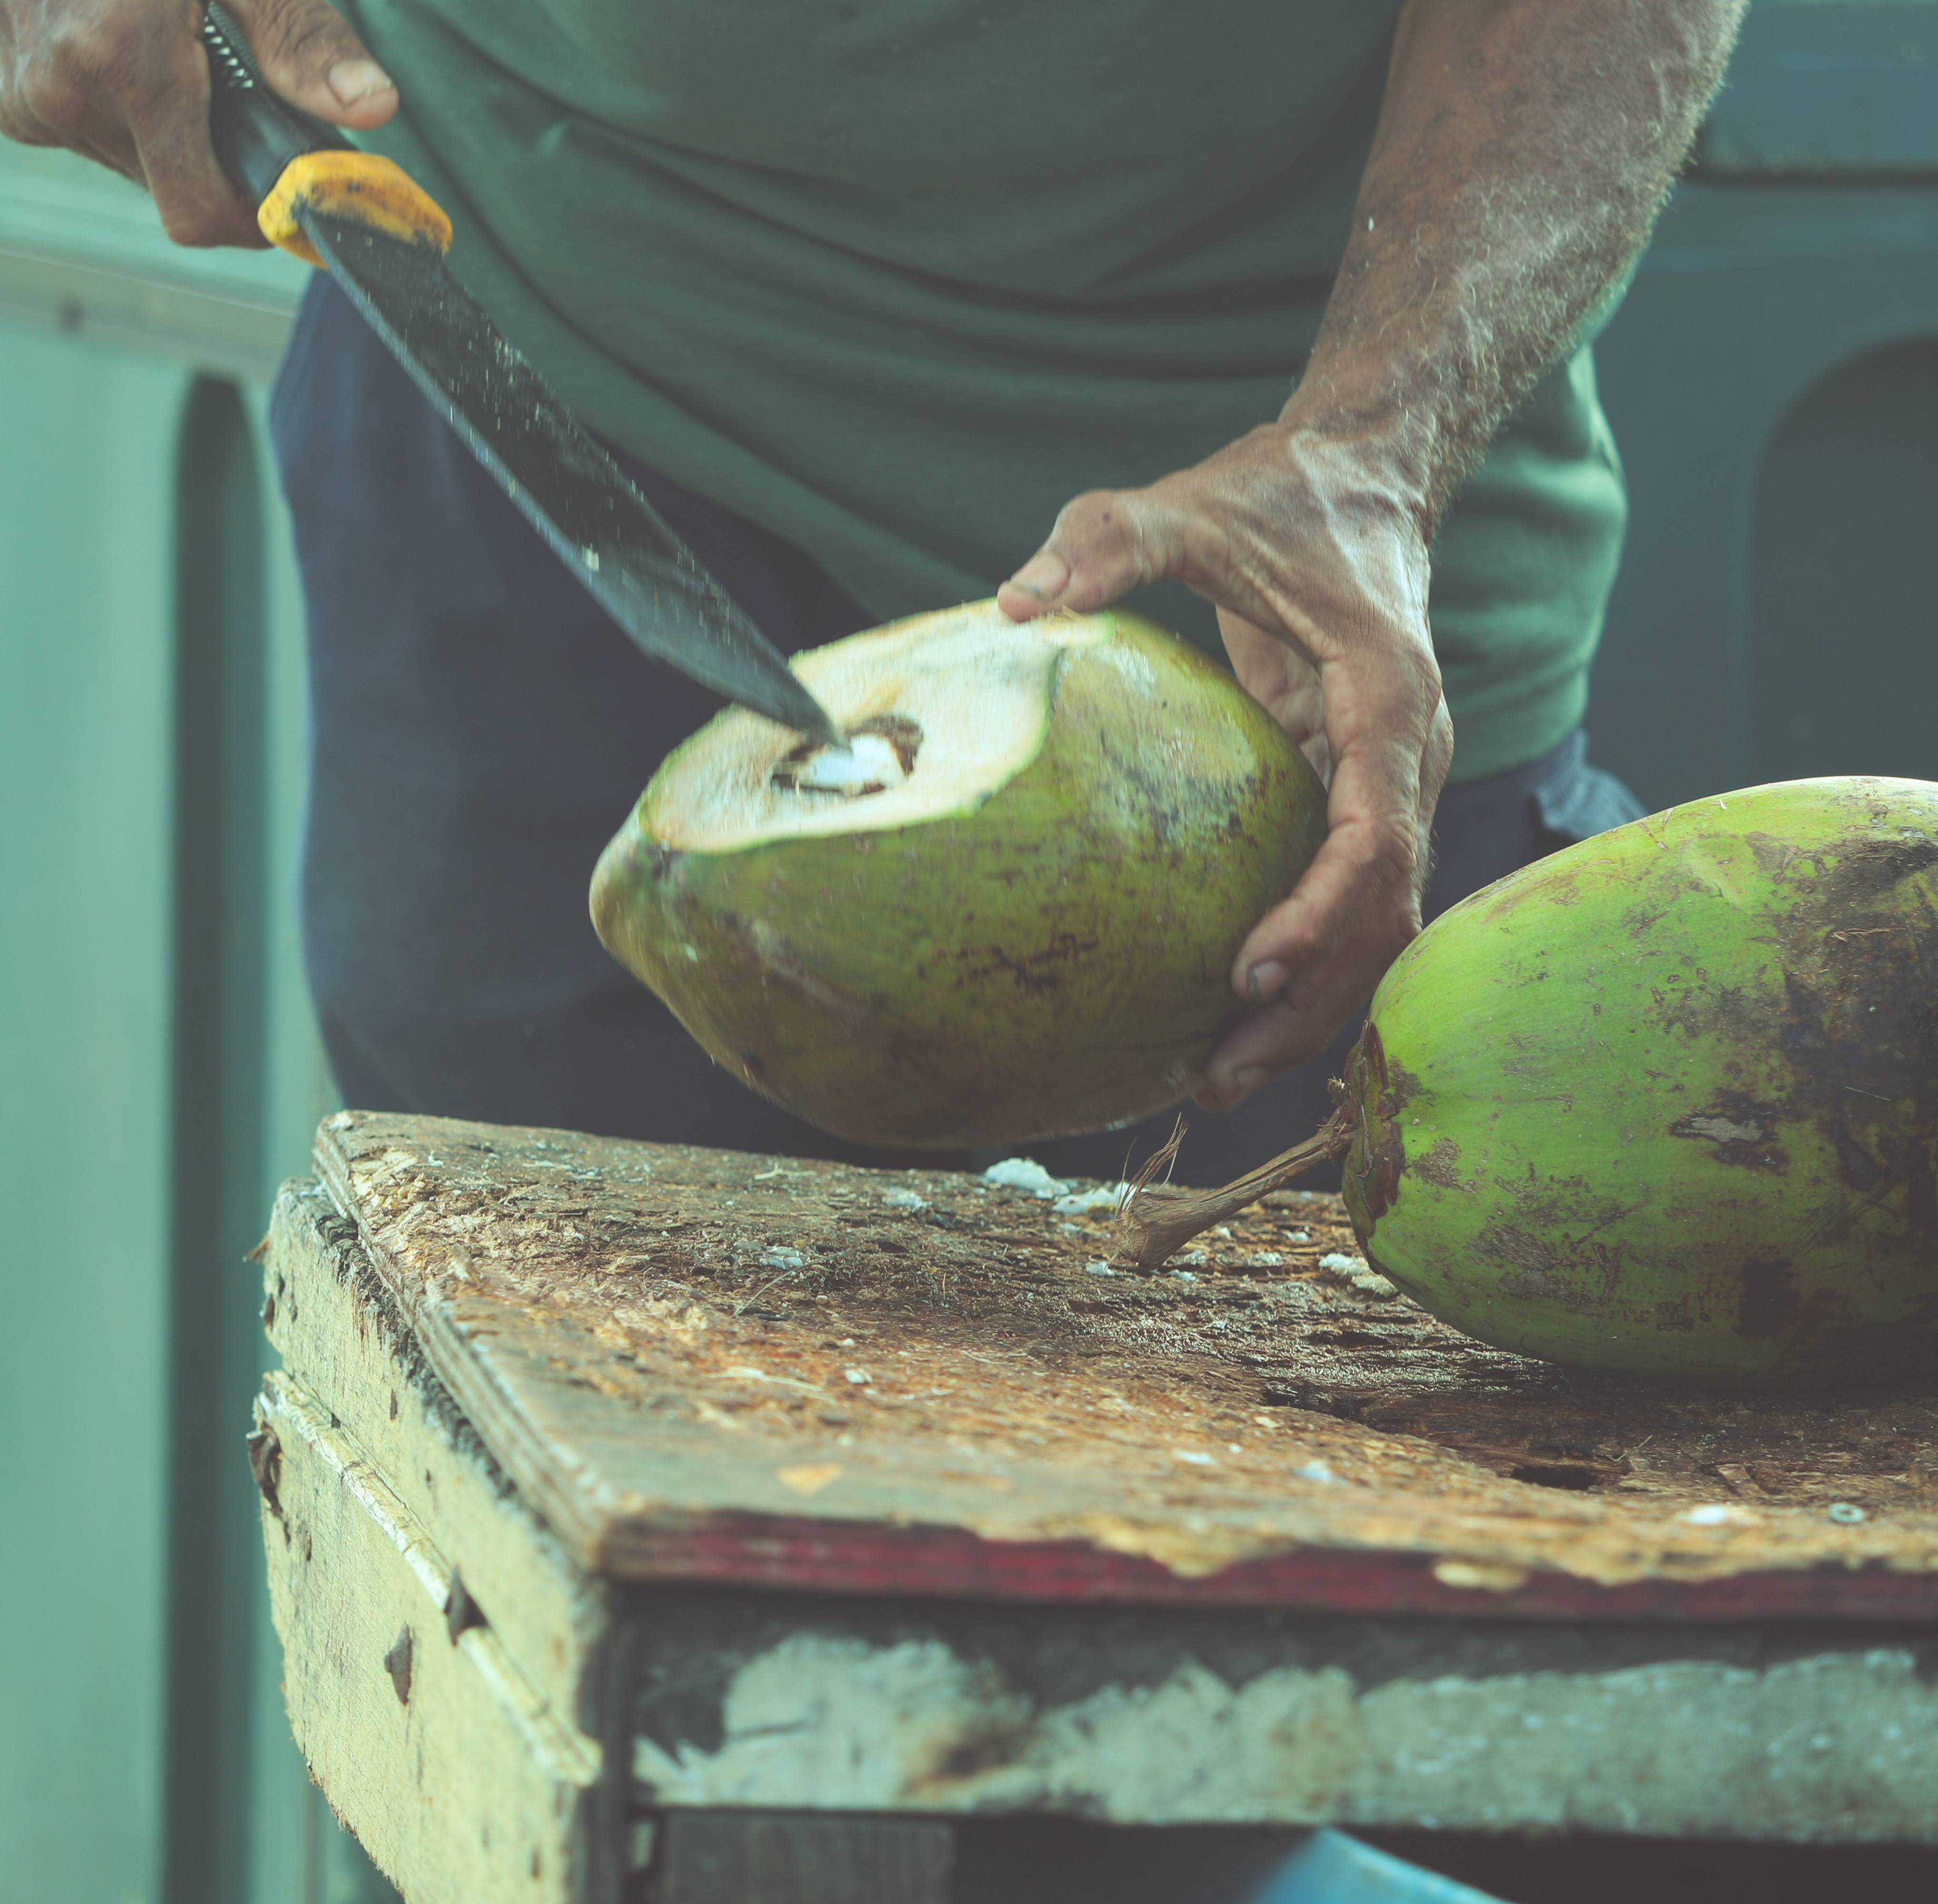knife: (136, 2, 876, 769)
